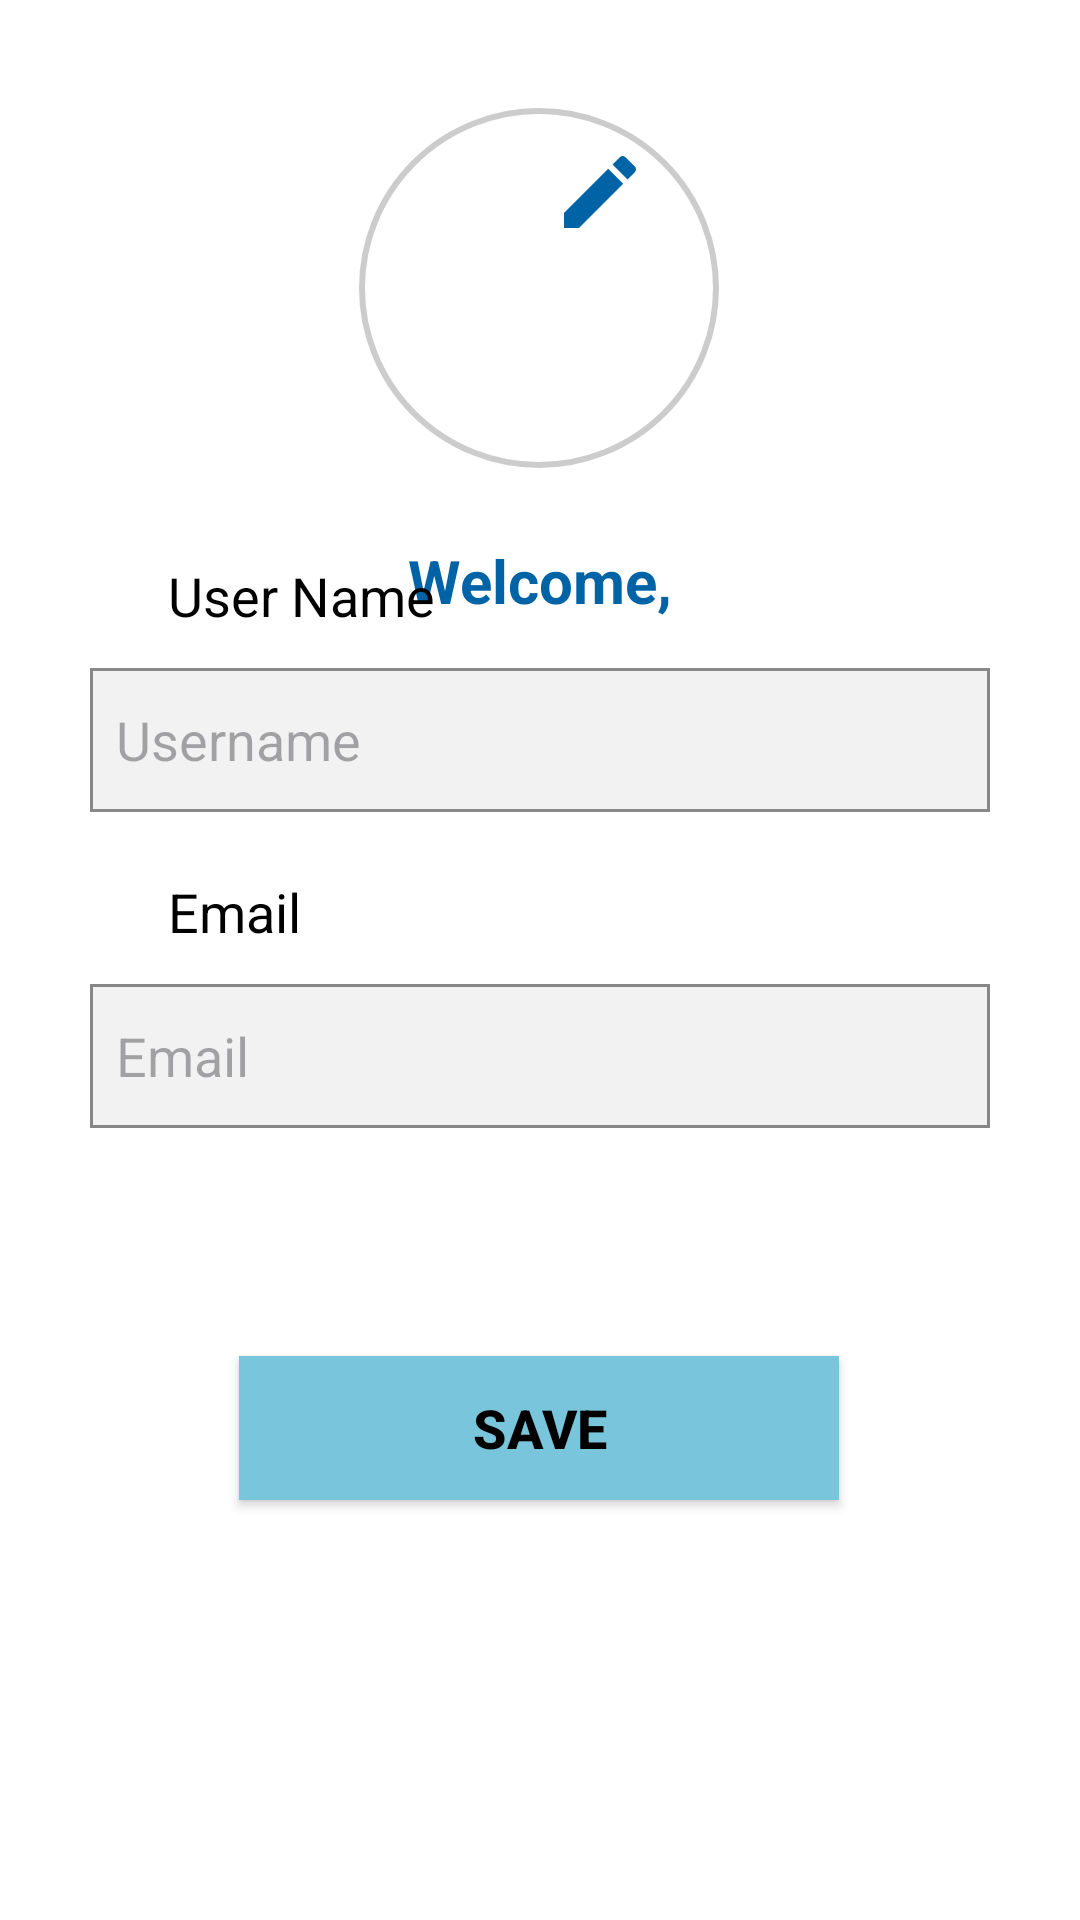

Where icons sit on this 1080*1920 app screen, as box=[x1, y1, x2, y2]:
Edit profile picture: box=[564, 156, 636, 228]
